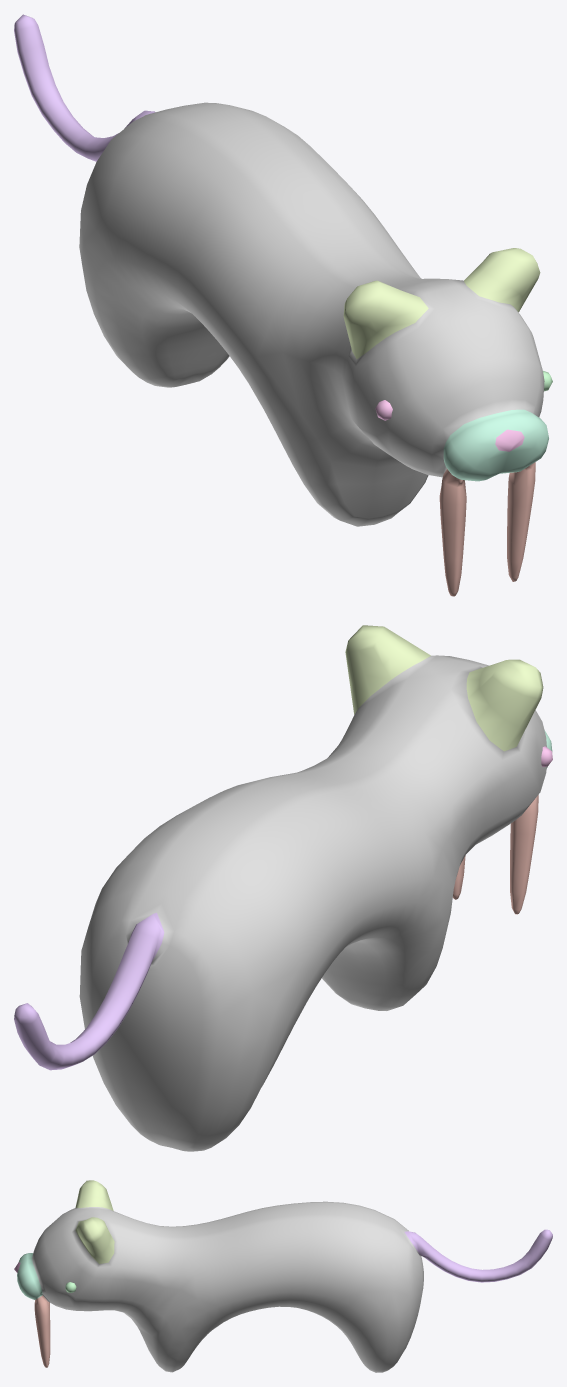
File: WS_VR_FBX_Smylodon_low.fbx
3 views of the same model, one above another, from view 1: azimuth 30°, elevation 25°; view 2: azimuth 150°, elevation 25°; view 3: azimuth 270°, elevation 25° (orthographic). The views are drawn at different scales.
Visible parts, largest first — view 1: PolySphere1_8; view 2: PolySphere1_8; view 3: PolySphere1_8.
Part boxes in pixels (bbox=[...]): PolySphere1_8: bbox=[14, 14, 552, 596]; PolySphere1_8: bbox=[14, 625, 552, 1151]; PolySphere1_8: bbox=[14, 1180, 552, 1372].
Bounding box in the file's own units: 2.16 × 3.16 × 9.16.
